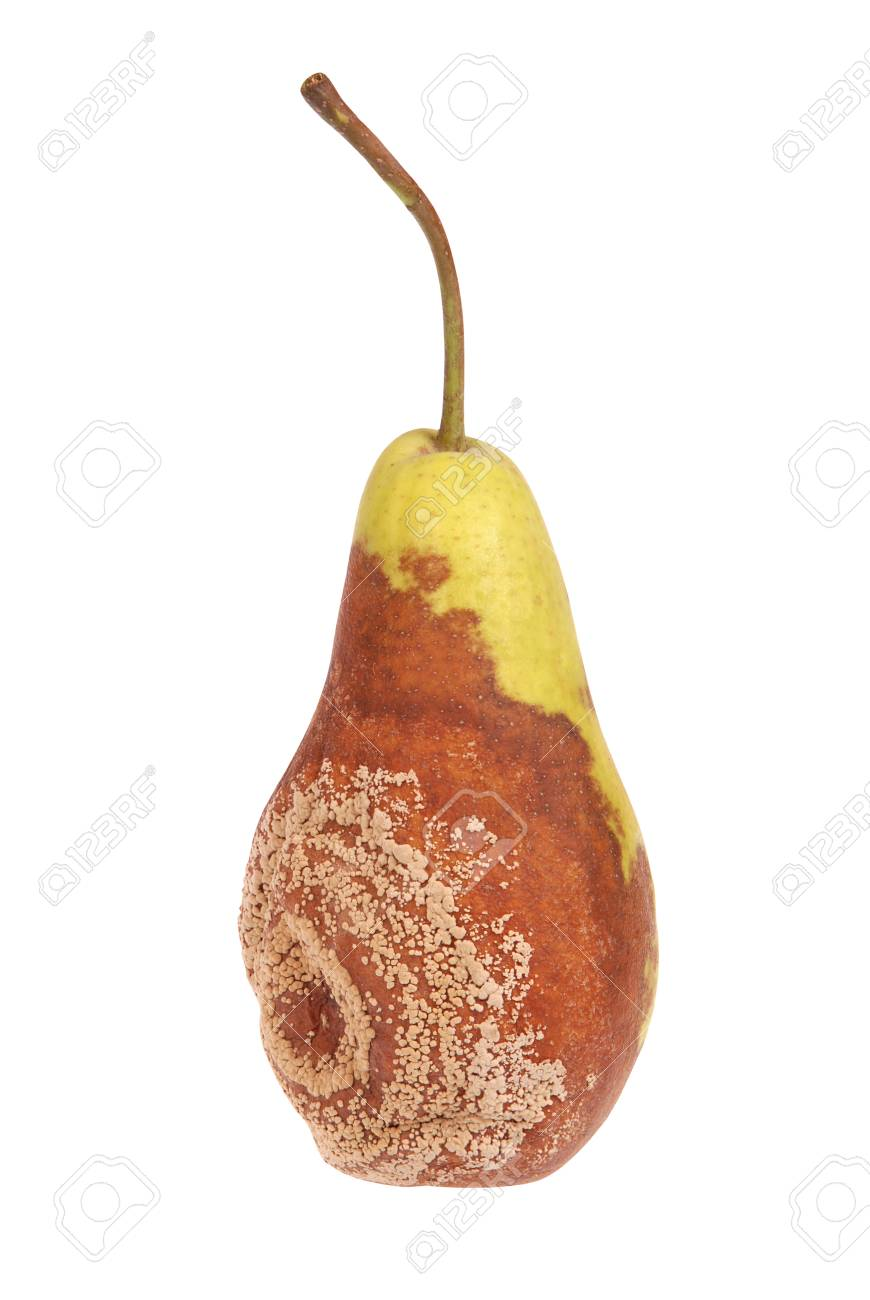damaged_pear: (232, 414, 669, 1194)
